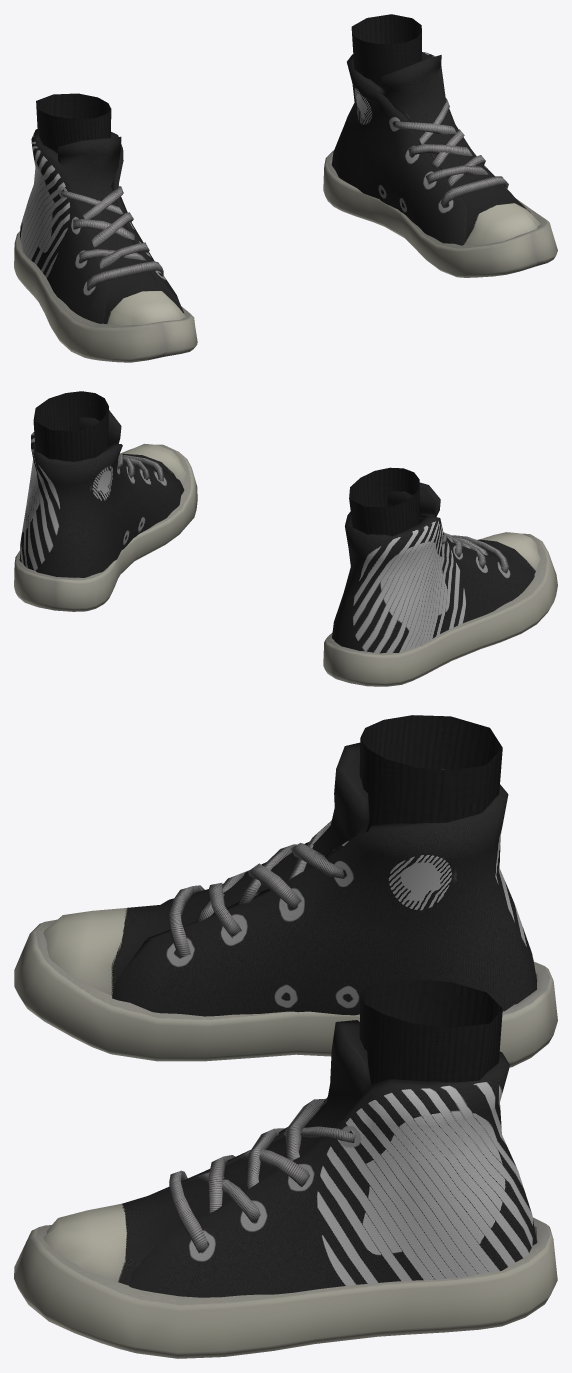
File: v3_phr_male_UA_shoes_sneakers_converse_black.glb
3 views of the same model, one above another, from view 1: azimuth 30°, elevation 25°; view 2: azimuth 150°, elevation 25°; view 3: azimuth 270°, elevation 25° (orthographic). The views are drawn at different scales.
Visible parts, largest first — view 1: UnionAvatars_Shoes; view 2: UnionAvatars_Shoes; view 3: UnionAvatars_Shoes.
Part boxes in pixels (x1,y1,x2,y2): UnionAvatars_Shoes: (14, 14, 557, 362); UnionAvatars_Shoes: (14, 391, 557, 686); UnionAvatars_Shoes: (14, 715, 557, 1358).
Bounding box in the file's own units: 0.468 × 0.1711 × 0.2765.
Materials: 1 (1 with a texture image).
